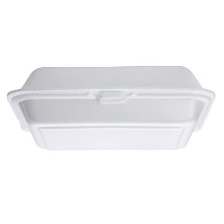foam_box: (3, 60, 218, 157)
